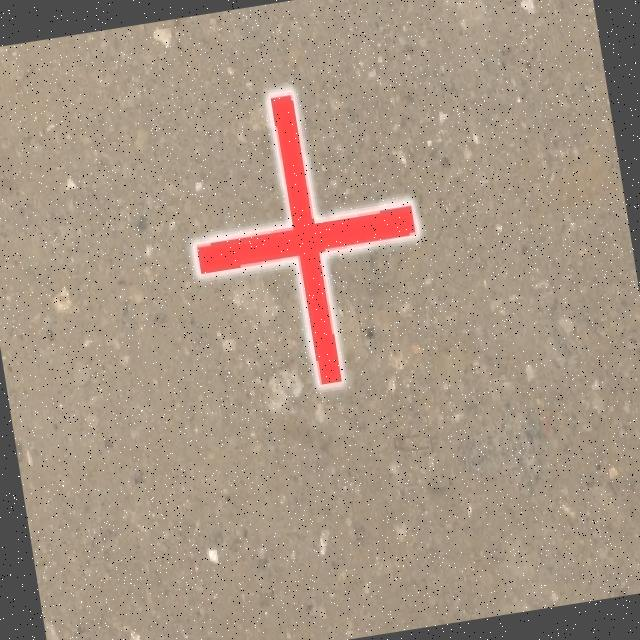x_marker: (172, 75, 438, 400)
